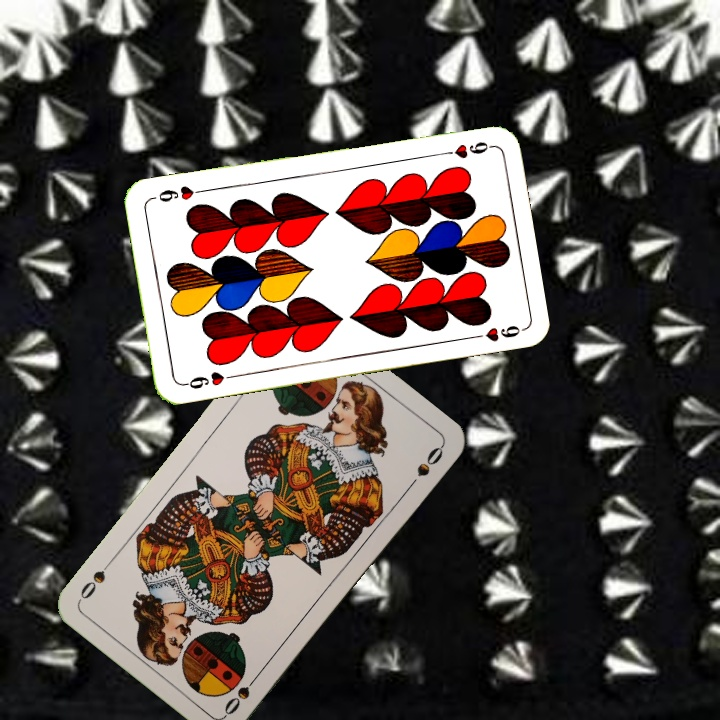H9: (179, 367, 238, 392), (435, 137, 494, 161)
SO: (219, 668, 263, 718)
